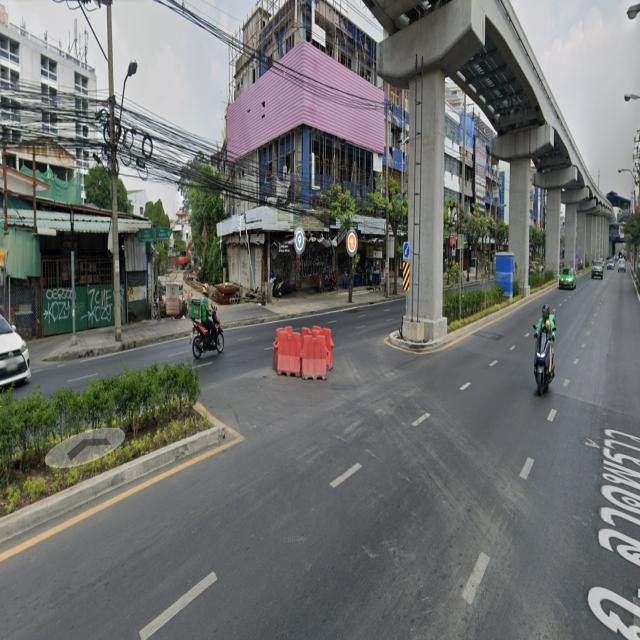fallen_object: (260, 319, 356, 396)
